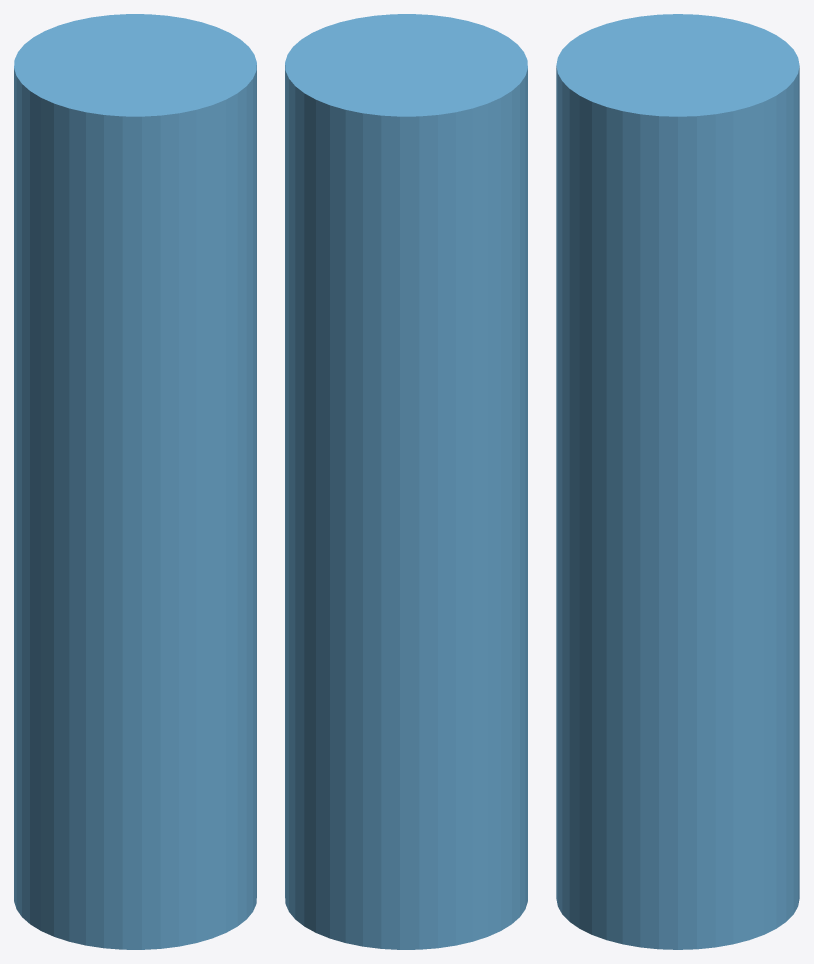
The model's file is rec_pet_bottle_0000.glb.
3 views of the same model, side by side, from view 1: azimuth 30°, elevation 25°; view 2: azimuth 150°, elevation 25°; view 3: azimuth 270°, elevation 25° (orthographic).
Visible parts, largest first — view 1: z-up-to-y-up; view 2: z-up-to-y-up; view 3: z-up-to-y-up.
Part boxes in pixels (left/top/right/bottom): z-up-to-y-up: left=14, top=14, right=256, bottom=949; z-up-to-y-up: left=285, top=14, right=527, bottom=949; z-up-to-y-up: left=556, top=14, right=799, bottom=949.
Bounding box in the file's own units: 0.0602 × 0.2275 × 0.0602.
